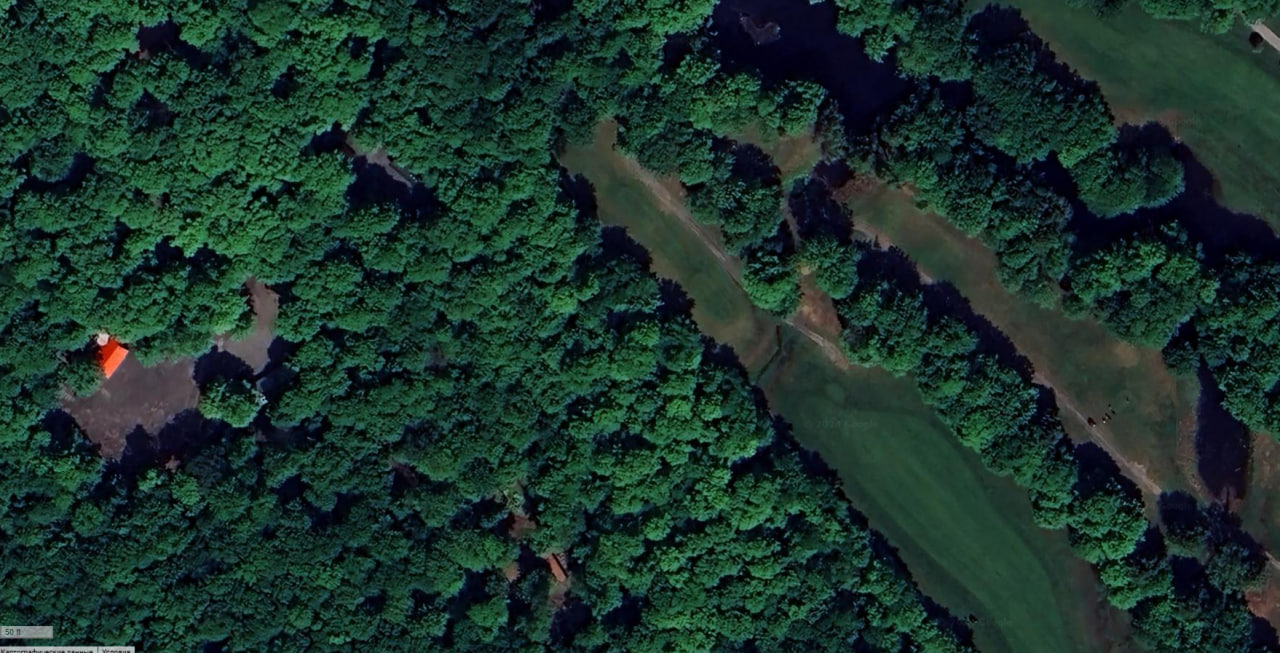Sown field: (560, 122, 1134, 649), (837, 177, 1213, 515), (1015, 0, 1280, 232), (1254, 524, 1280, 556), (1260, 438, 1280, 455), (1242, 490, 1250, 505), (1247, 517, 1251, 526), (841, 355, 843, 358)
